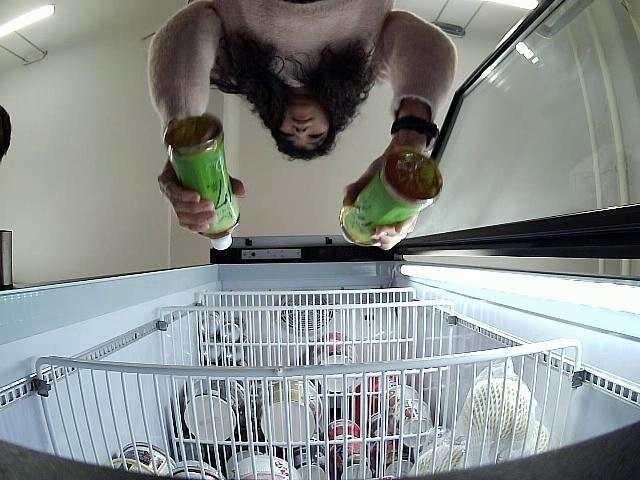19_17cha: (340, 146, 446, 254), (162, 112, 244, 251)
